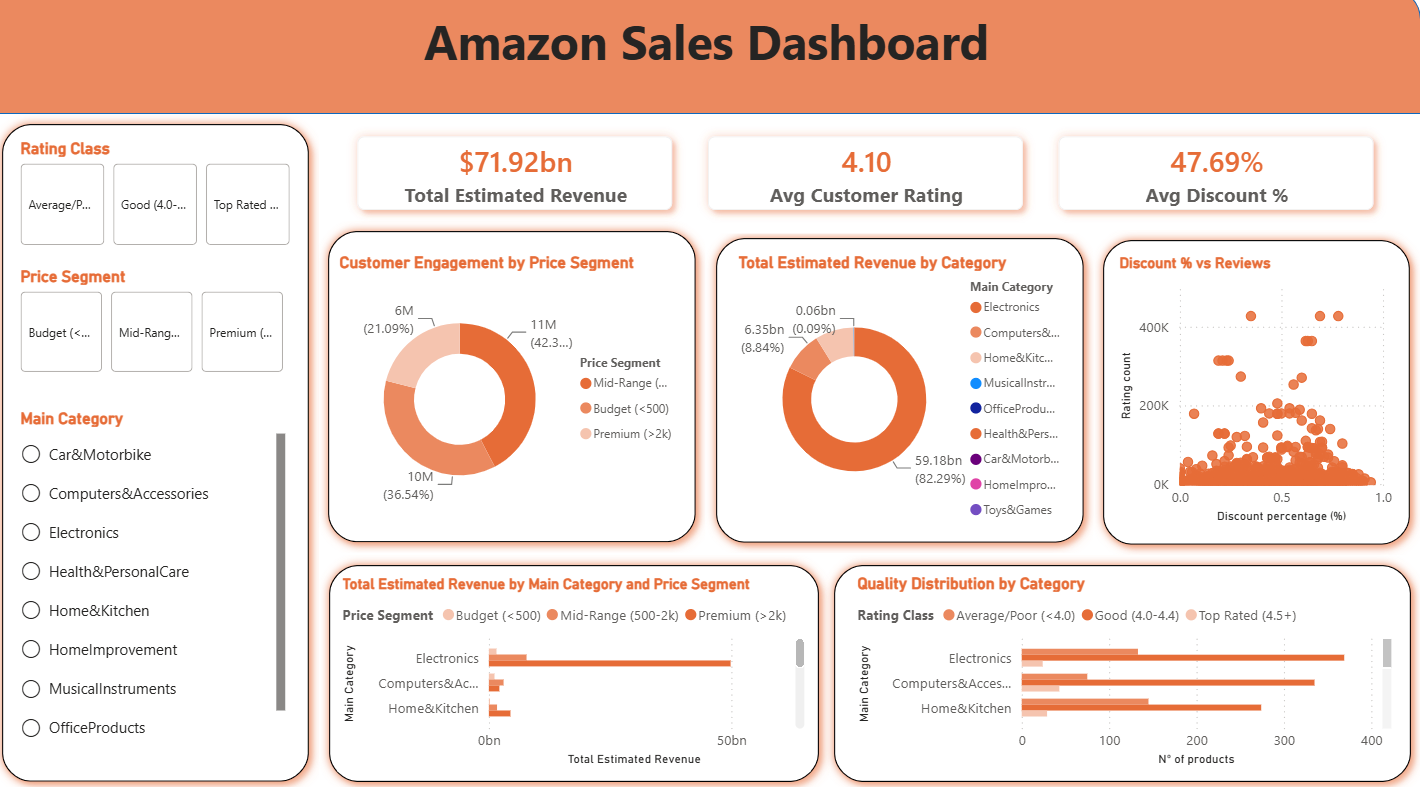

What the dashboard file says about the page in this screenshot:
{"tool":"powerbi","page":{"name":"Page 1","canvas":[1280,720],"ordinal":0},"visuals":[{"type":"shape","box":[292.8,507.8,456.7,212.2],"z":0},{"type":"shape","box":[639.1,214.9,347.2,290.8],"z":1000},{"type":"cardVisual","fields":{"Data":["amazon.Total Estimated Revenue","amazon.Avg Customer Rating","amazon.Avg Discount %"]},"box":[307.2,112.8,952.8,106.6],"z":2000},{"type":"shape","box":[0,0,1279.7,112.8],"z":3000},{"type":"shape","box":[291.9,209.1,347.2,296.7],"z":4000},{"type":"textbox","box":[328.8,13.6,622.5,72],"z":5000},{"type":"donutChart","title":"Total Estimated Revenue by Category","fields":{"Category":["amazon.category.1"],"Y":["amazon.Total Estimated Revenue"]},"box":[663.4,237.3,307.4,246.1],"z":6000},{"type":"shape","box":[0,112.8,292.8,606.9],"z":7000},{"type":"donutChart","title":"Customer Engagement by Price Segment","fields":{"Category":["amazon.Price Segment"],"Y":["Sum(amazon.rating_count)"]},"box":[306.5,237.3,318.1,246.1],"z":8000},{"type":"listSlicer","fields":{"Values":["amazon.category.1"]},"box":[20.4,377.4,247.1,314.2],"z":9000},{"type":"clusteredBarChart","fields":{"Category":["amazon.category.1"],"Series":["amazon.Price Segment"],"Y":["amazon.Total Estimated Revenue"]},"box":[309,526.6,423.6,174.6],"z":10000},{"type":"advancedSlicerVisual","fields":{"Values":["amazon.Rating Class"]},"box":[20.4,135.2,253.9,100.2],"z":11000},{"type":"advancedSlicerVisual","fields":{"Values":["amazon.Price Segment"]},"box":[20.4,250,247.1,99.2],"z":12000},{"type":"shape","box":[745.1,507.8,534.6,212.2],"z":13000},{"type":"shape","box":[986.3,216.9,292.8,290.8],"z":14000},{"type":"clusteredBarChart","title":"Quality Distribution by Category","fields":{"Category":["amazon.category.1"],"Y":["CountNonNull(amazon.product_id)"],"Series":["amazon.Rating Class"]},"box":[770.1,524.8,488.1,176.4],"z":15000},{"type":"scatterChart","title":"Discount % vs Reviews","fields":{"X":["Max(amazon.discount_percentage)"],"Y":["Avg(amazon.rating_count)"],"Category":["amazon.product_name"]},"box":[1004.8,239.2,253.9,244.1],"z":16000}]}

Visuals, with their boxes in screenshot pixels (x1, y1, x2, y2), scaled from the page's 1280x720 canvas onto the 1420x787 screenshot:
shape: BBox(325, 555, 831, 786)
shape: BBox(709, 235, 1094, 553)
cardVisual - amazon.Total Estimated Revenue x amazon.Avg Customer Rating: BBox(341, 123, 1398, 240)
shape: BBox(0, 0, 1419, 123)
shape: BBox(324, 229, 709, 553)
textbox: BBox(365, 15, 1055, 94)
"Total Estimated Revenue by Category" donutChart: BBox(736, 259, 1077, 528)
shape: BBox(0, 123, 325, 786)
"Customer Engagement by Price Segment" donutChart: BBox(340, 259, 693, 528)
listSlicer - amazon.category.1: BBox(23, 413, 297, 756)
clusteredBarChart - amazon.category.1 x amazon.Price Segment: BBox(343, 576, 813, 766)
advancedSlicerVisual - amazon.Rating Class: BBox(23, 148, 304, 257)
advancedSlicerVisual - amazon.Price Segment: BBox(23, 273, 297, 382)
shape: BBox(827, 555, 1419, 786)
shape: BBox(1094, 237, 1419, 555)
"Quality Distribution by Category" clusteredBarChart: BBox(854, 574, 1396, 766)
"Discount % vs Reviews" scatterChart: BBox(1115, 261, 1396, 528)
